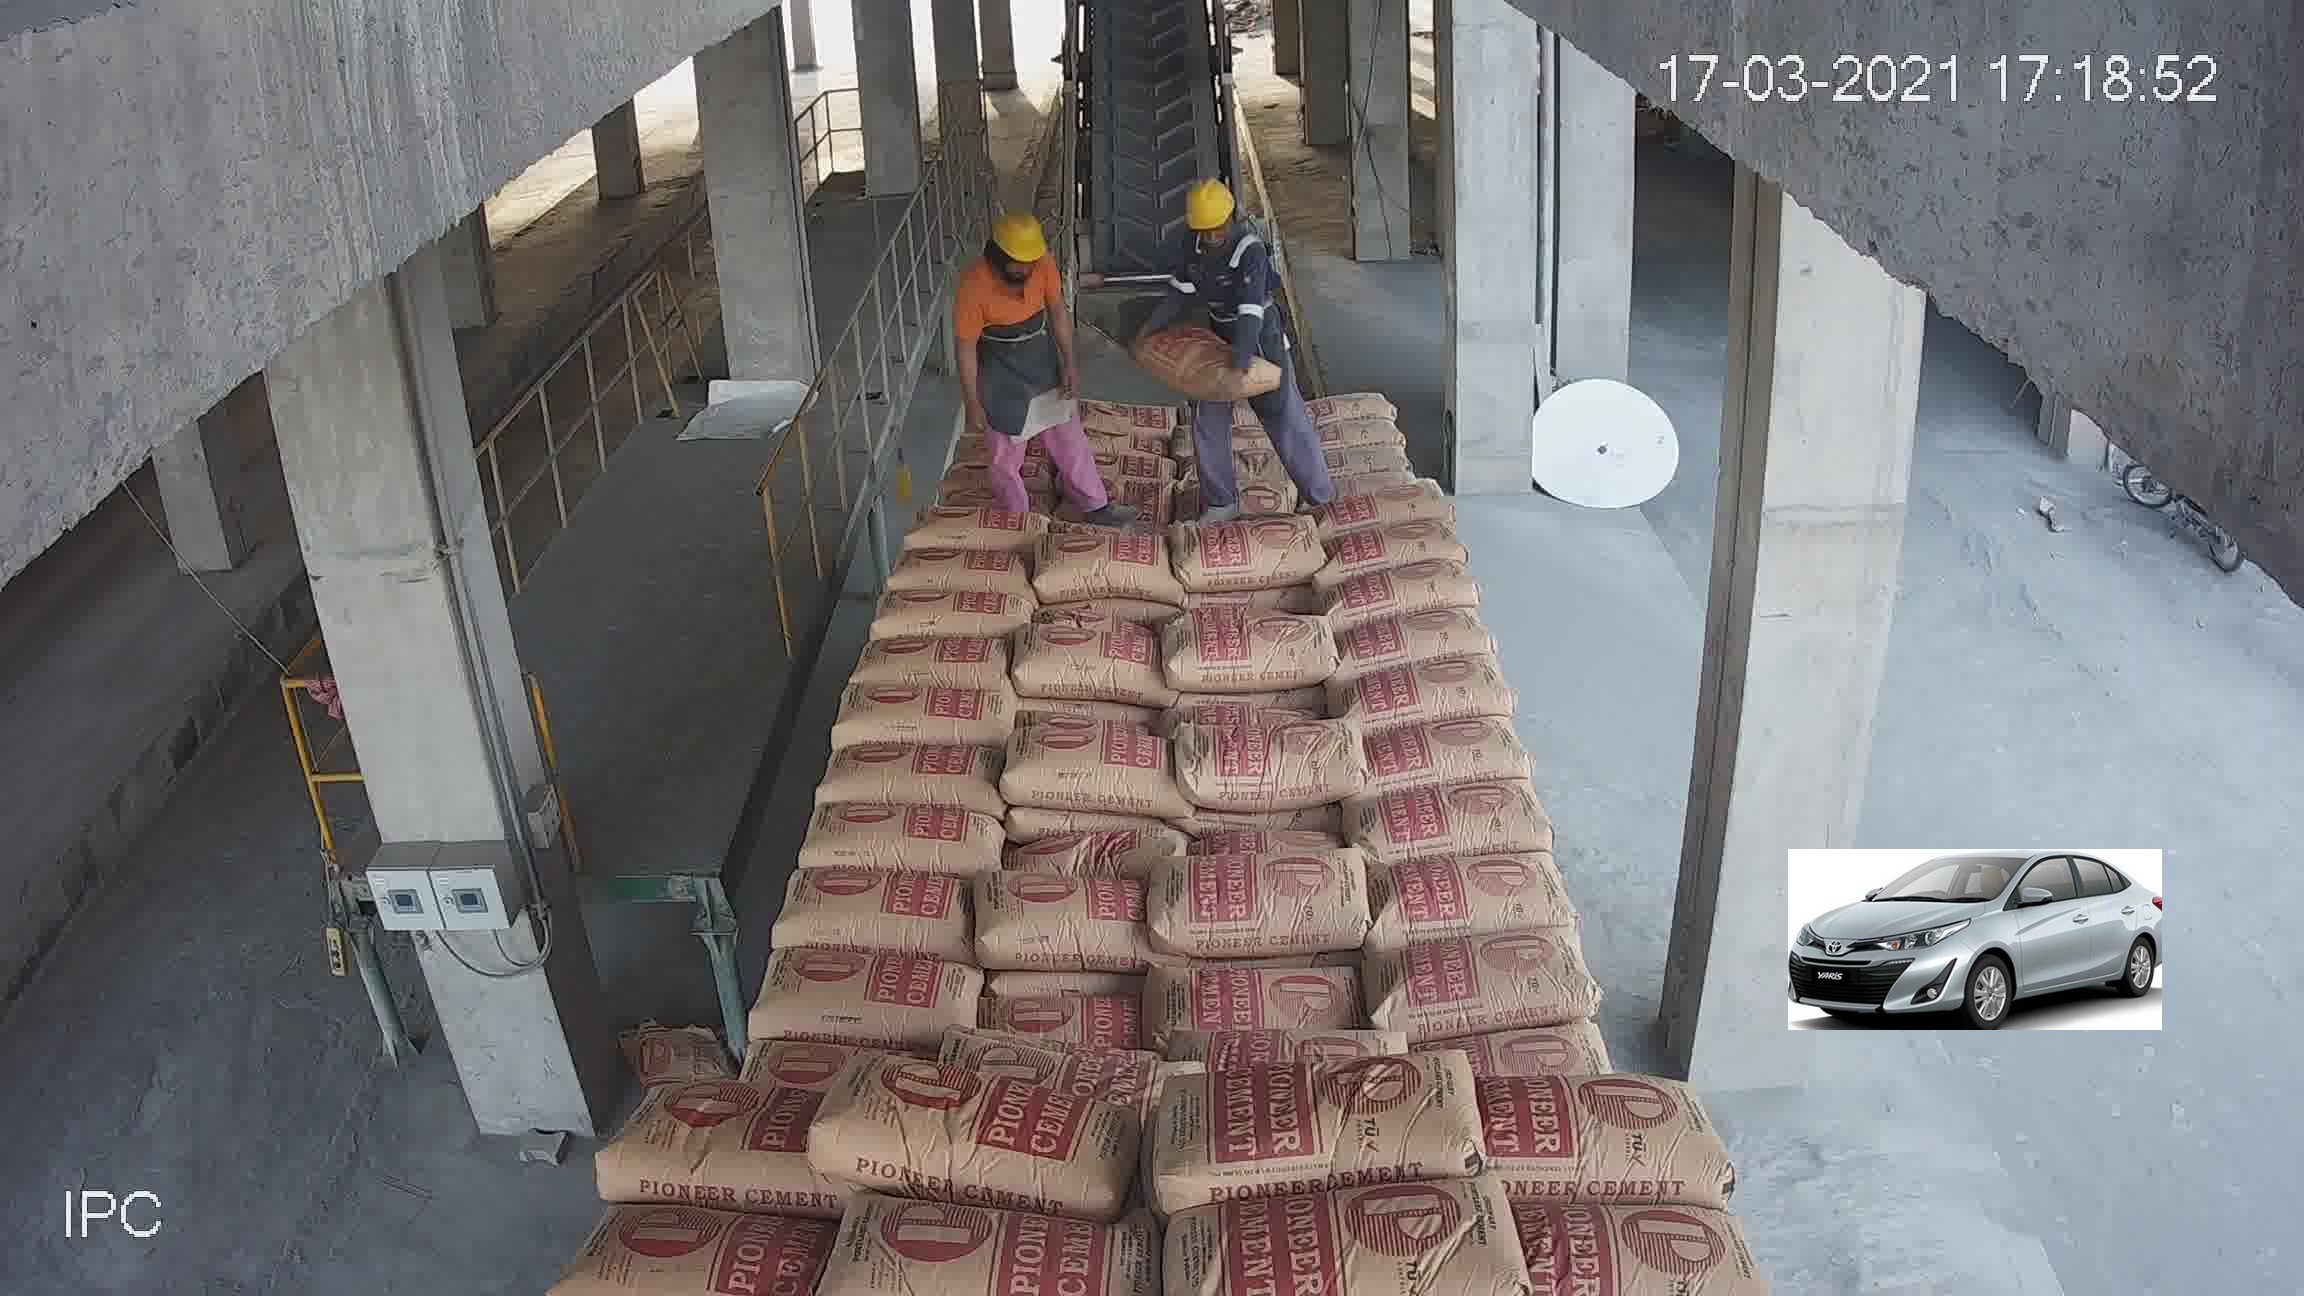bag: (1141, 323, 1282, 405)
bag_h: (1138, 1044, 1483, 1204), (810, 1060, 1143, 1203), (1150, 1176, 1532, 1291), (832, 1174, 1173, 1290), (1478, 1076, 1711, 1204), (593, 1076, 817, 1207), (1389, 908, 1598, 1038), (1529, 1184, 1769, 1296), (555, 1185, 824, 1280), (1124, 848, 1362, 953), (744, 948, 976, 1046), (978, 848, 1157, 959), (1356, 777, 1571, 866), (929, 1029, 1206, 1097), (771, 859, 965, 951), (1374, 850, 1578, 935), (1165, 718, 1359, 805), (1362, 709, 1546, 798), (821, 729, 994, 820), (1160, 945, 1359, 1022), (994, 616, 1173, 701), (1011, 722, 1177, 810), (1353, 663, 1540, 741), (785, 799, 1003, 862), (1029, 510, 1174, 601), (1165, 608, 1340, 684), (1176, 498, 1336, 581), (832, 631, 1024, 699), (850, 578, 1040, 646), (1187, 1006, 1407, 1063), (1347, 606, 1519, 677), (1298, 508, 1468, 578), (820, 687, 1019, 742), (1021, 817, 1195, 877), (1332, 559, 1484, 625), (892, 502, 1048, 559), (1478, 1025, 1635, 1079), (883, 538, 1029, 589), (1005, 989, 1146, 1036), (1309, 476, 1445, 522), (1301, 430, 1421, 479), (1079, 383, 1179, 441), (1086, 429, 1185, 483), (1310, 370, 1404, 423), (1301, 400, 1402, 445), (1304, 457, 1419, 487)
belt: (1063, 13, 1245, 324)
